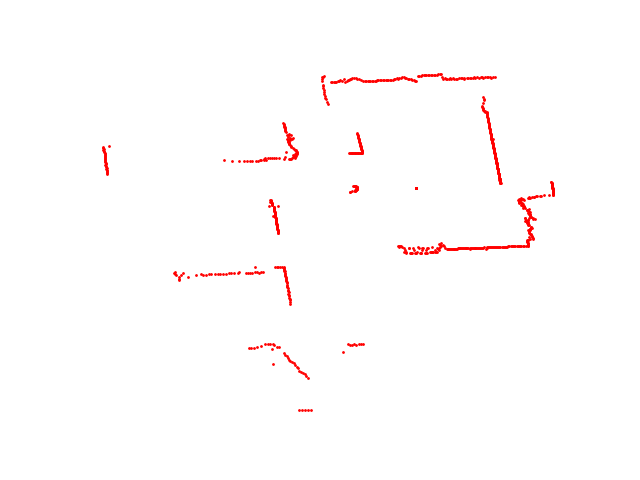person: (345, 183, 363, 196)
